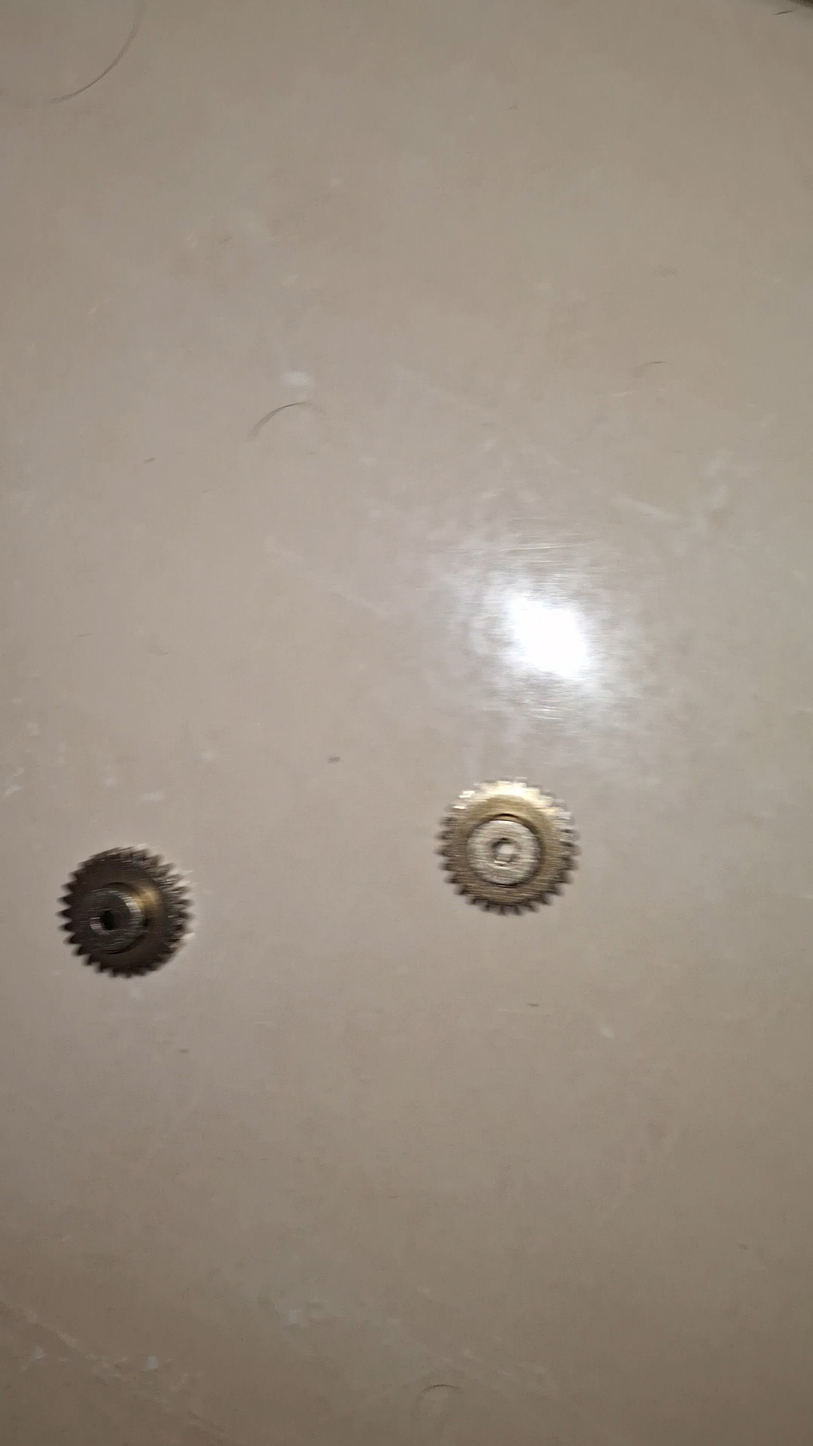spur gear: (439, 781, 578, 912), (61, 848, 190, 976)
